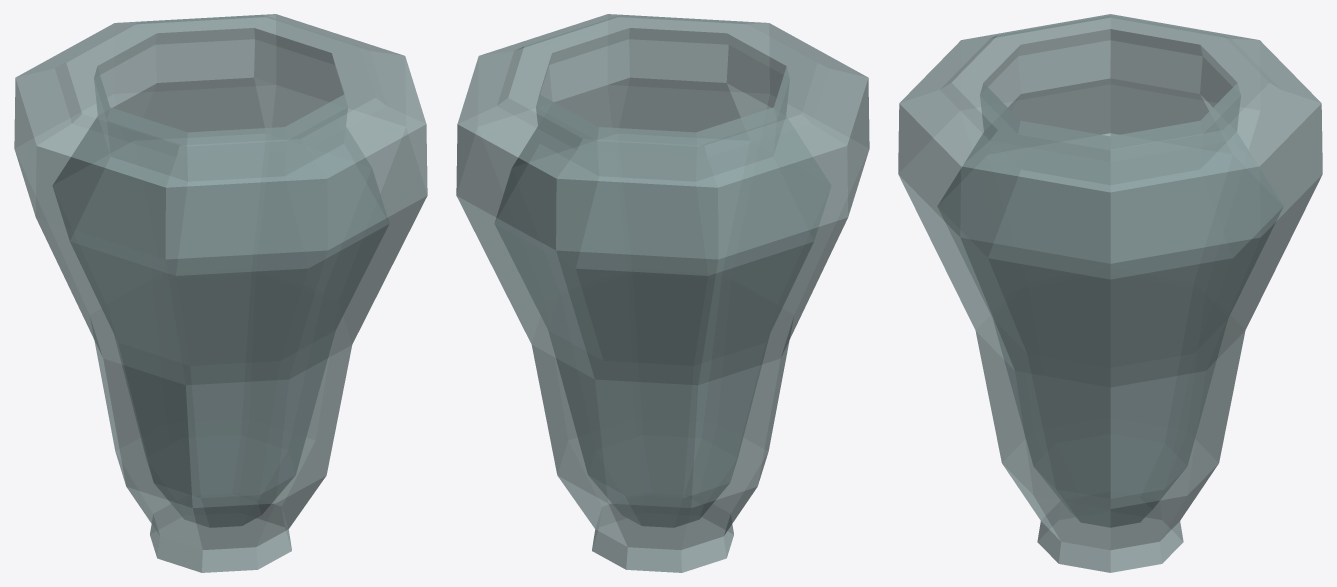
File: POT_3.fbx
3 views of the same model, side by side, from view 1: azimuth 30°, elevation 25°; view 2: azimuth 150°, elevation 25°; view 3: azimuth 270°, elevation 25° (orthographic).
Visible parts, largest first — view 1: pCylinder9; view 2: pCylinder9; view 3: pCylinder9.
Boxes of the visible parts, x1,y1,x2,y2 form: pCylinder9: (14, 14, 427, 572); pCylinder9: (456, 14, 869, 572); pCylinder9: (898, 14, 1322, 572).
Bounding box in the file's own units: 0.6735 × 0.8038 × 0.6735.
